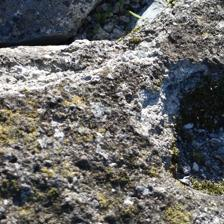Crack: (2, 2, 163, 60)
